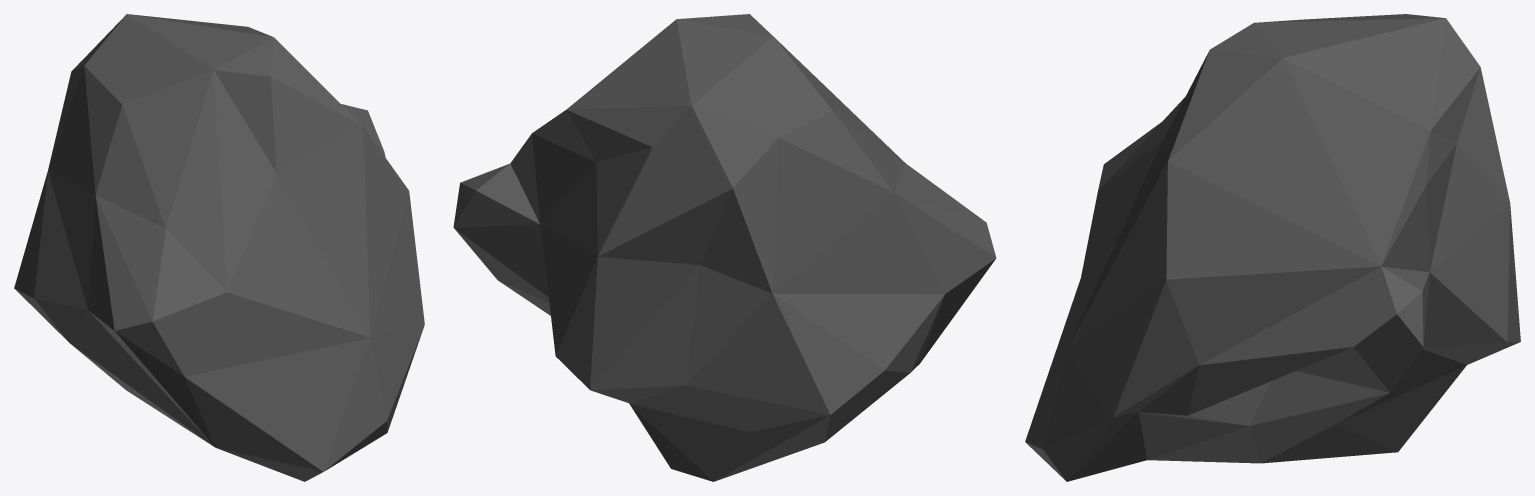
Rendered from Rock_02.fbx.
3 views of the same model, side by side, from view 1: azimuth 30°, elevation 25°; view 2: azimuth 150°, elevation 25°; view 3: azimuth 270°, elevation 25° (orthographic). The views are drawn at different scales.
Parts seen in each view (by area): view 1: Rock_02; view 2: Rock_02; view 3: Rock_02.
Boxes of the visible parts, x1,y1,x2,y2 form: Rock_02: (14,14,424,481); Rock_02: (453,14,996,481); Rock_02: (1025,14,1520,481).
Bounding box in the file's own units: 208 × 201 × 204.
